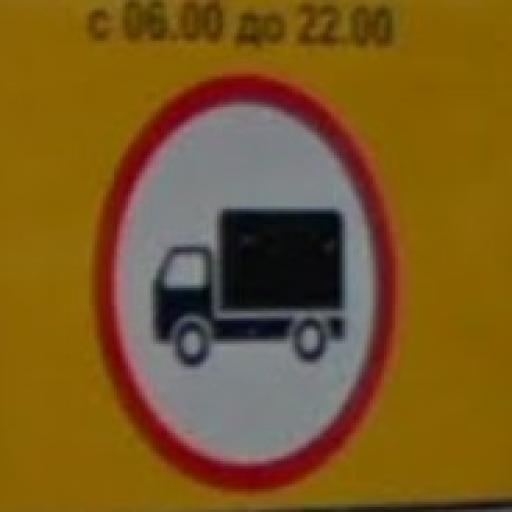traffic_sign: (90, 72, 396, 490)
